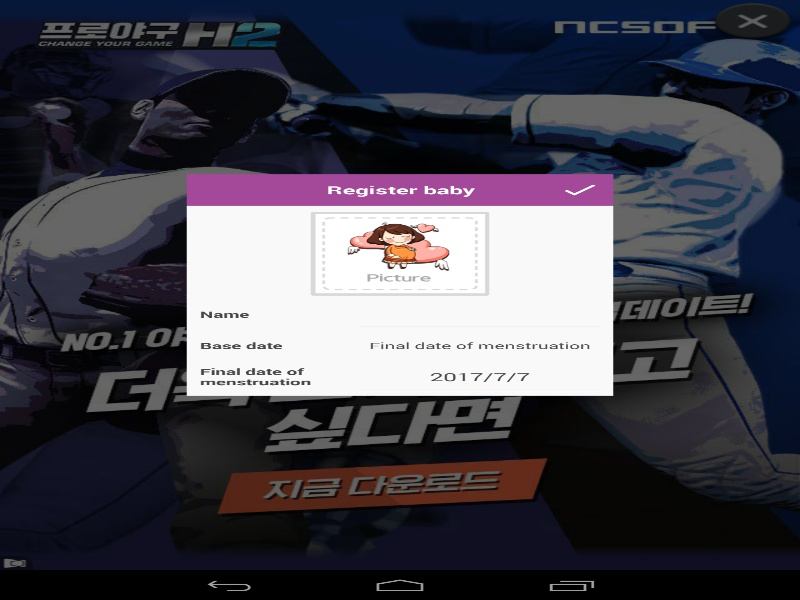Button: (560, 180, 600, 199)
Input: (360, 301, 600, 326), (360, 364, 600, 389)
